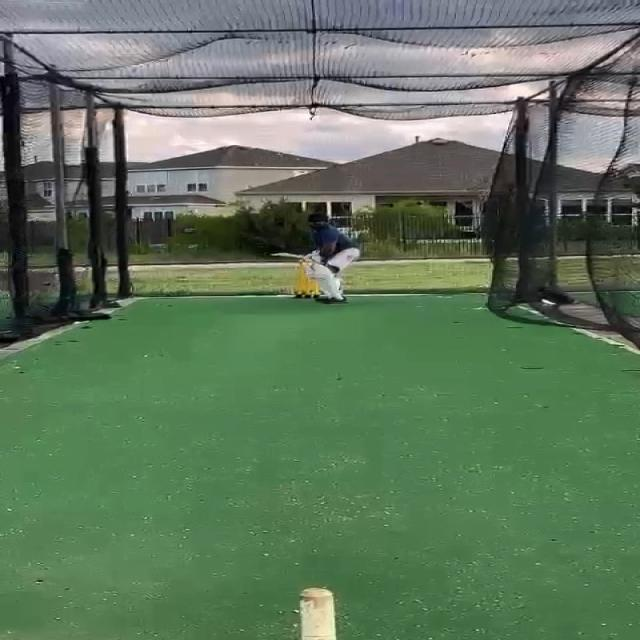batsman: (270, 212, 362, 306)
